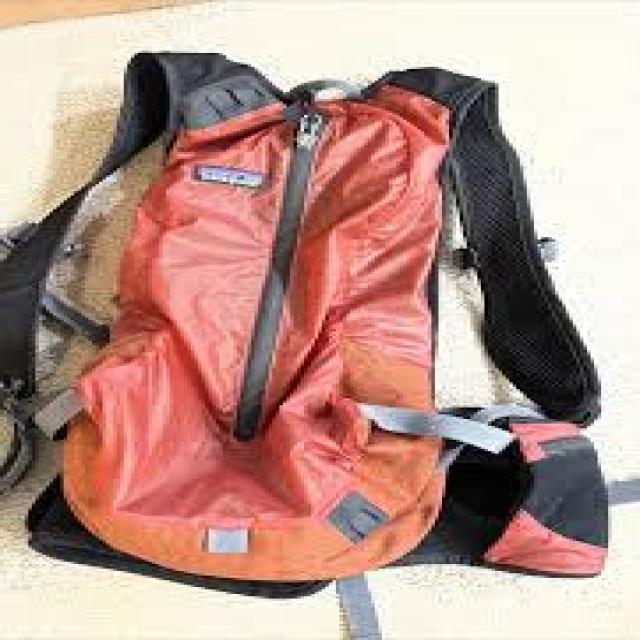backpack: (0, 49, 605, 598)
